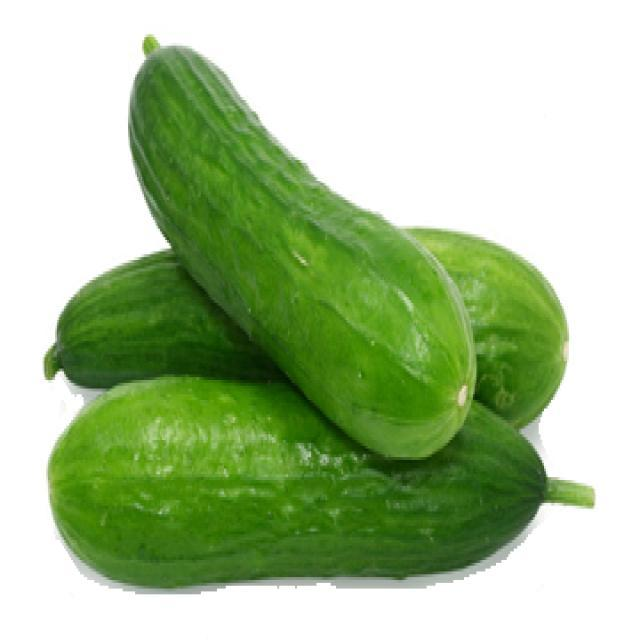cucumber: (126, 38, 474, 452), (43, 370, 549, 593), (56, 221, 579, 423)
